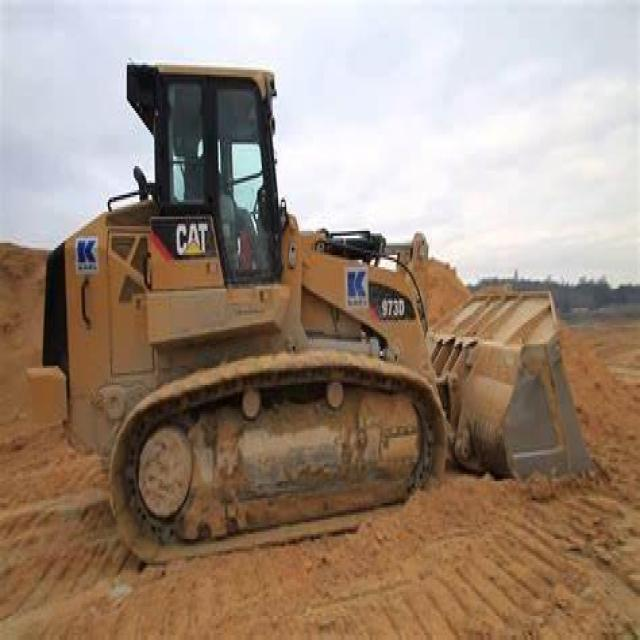buldozerpayloadergrader: (50, 17, 587, 563)
